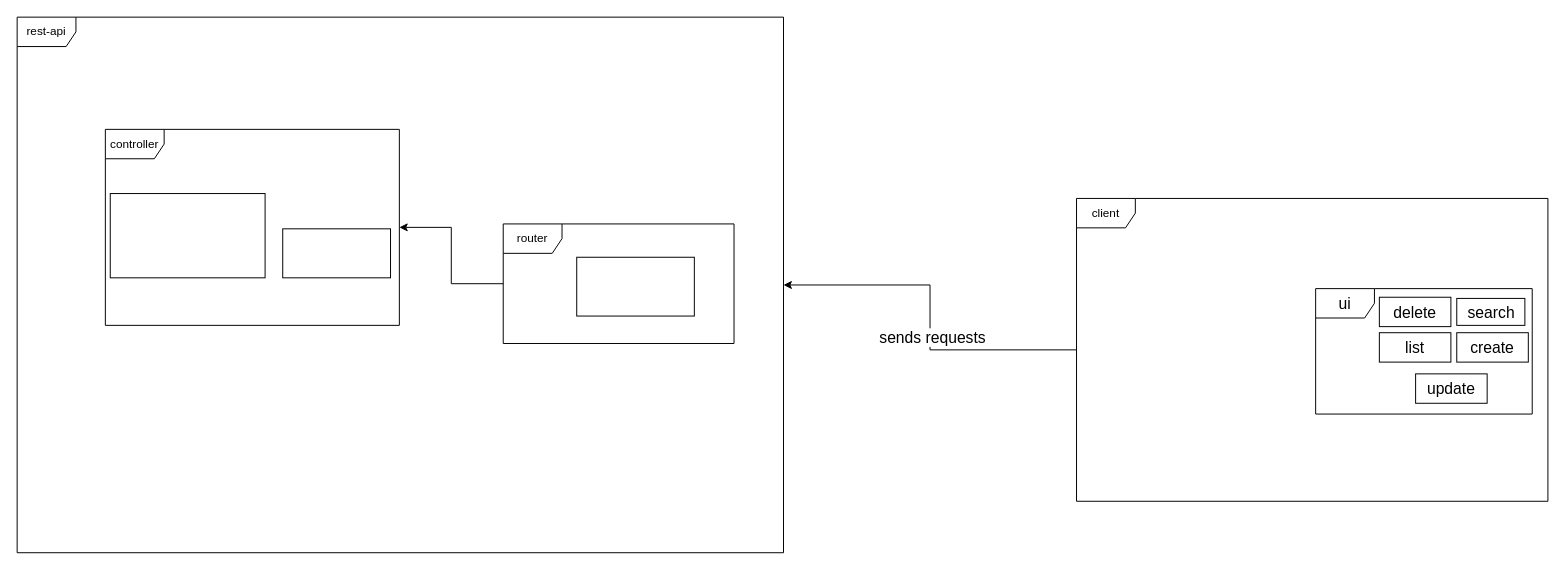
Image size: 1565x570. Some labels were removed from this diagram. The centre of each missing label's shape, as x and y in pixels:
assings right controler: (635,286)
data-validation: (336,253)
get/post/update/delet: (187,235)
